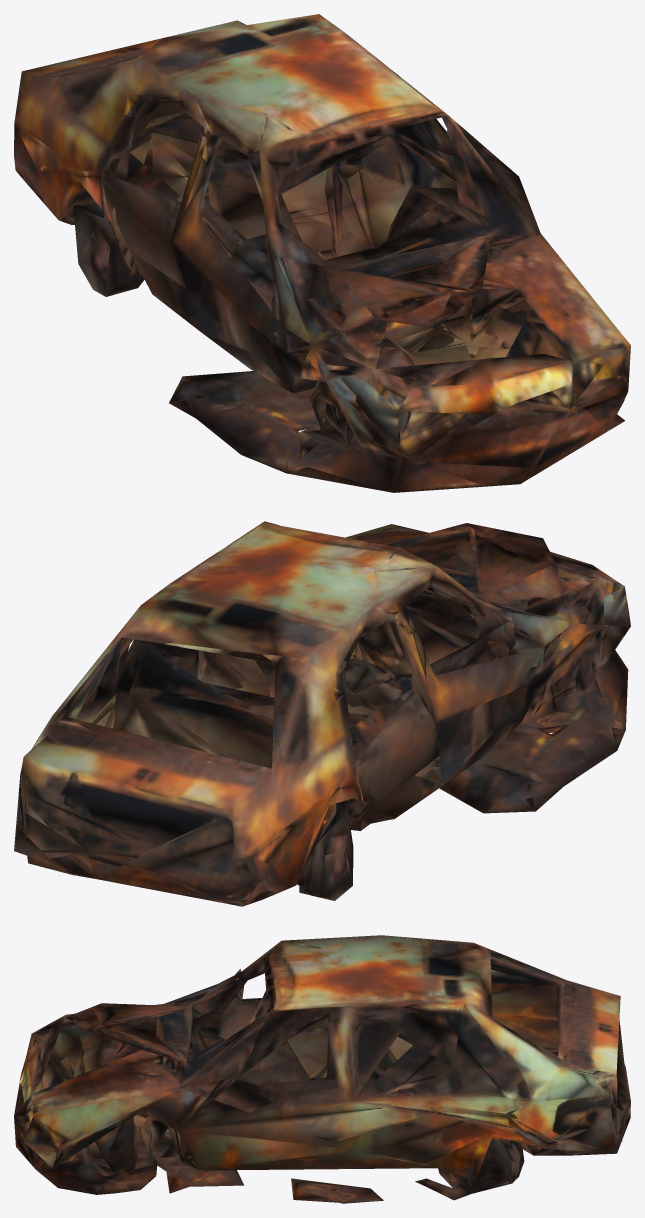
Rendered from burntCar.glb.
The picture shows the model from 3 angles, top to bottom: view 1: azimuth 30°, elevation 25°; view 2: azimuth 150°, elevation 25°; view 3: azimuth 270°, elevation 25°; orthographic projection. The views are drawn at different scales.
Size of the model in its own units: 0.9967 by 0.6559 by 1.94.
1 material, 1 textured.
